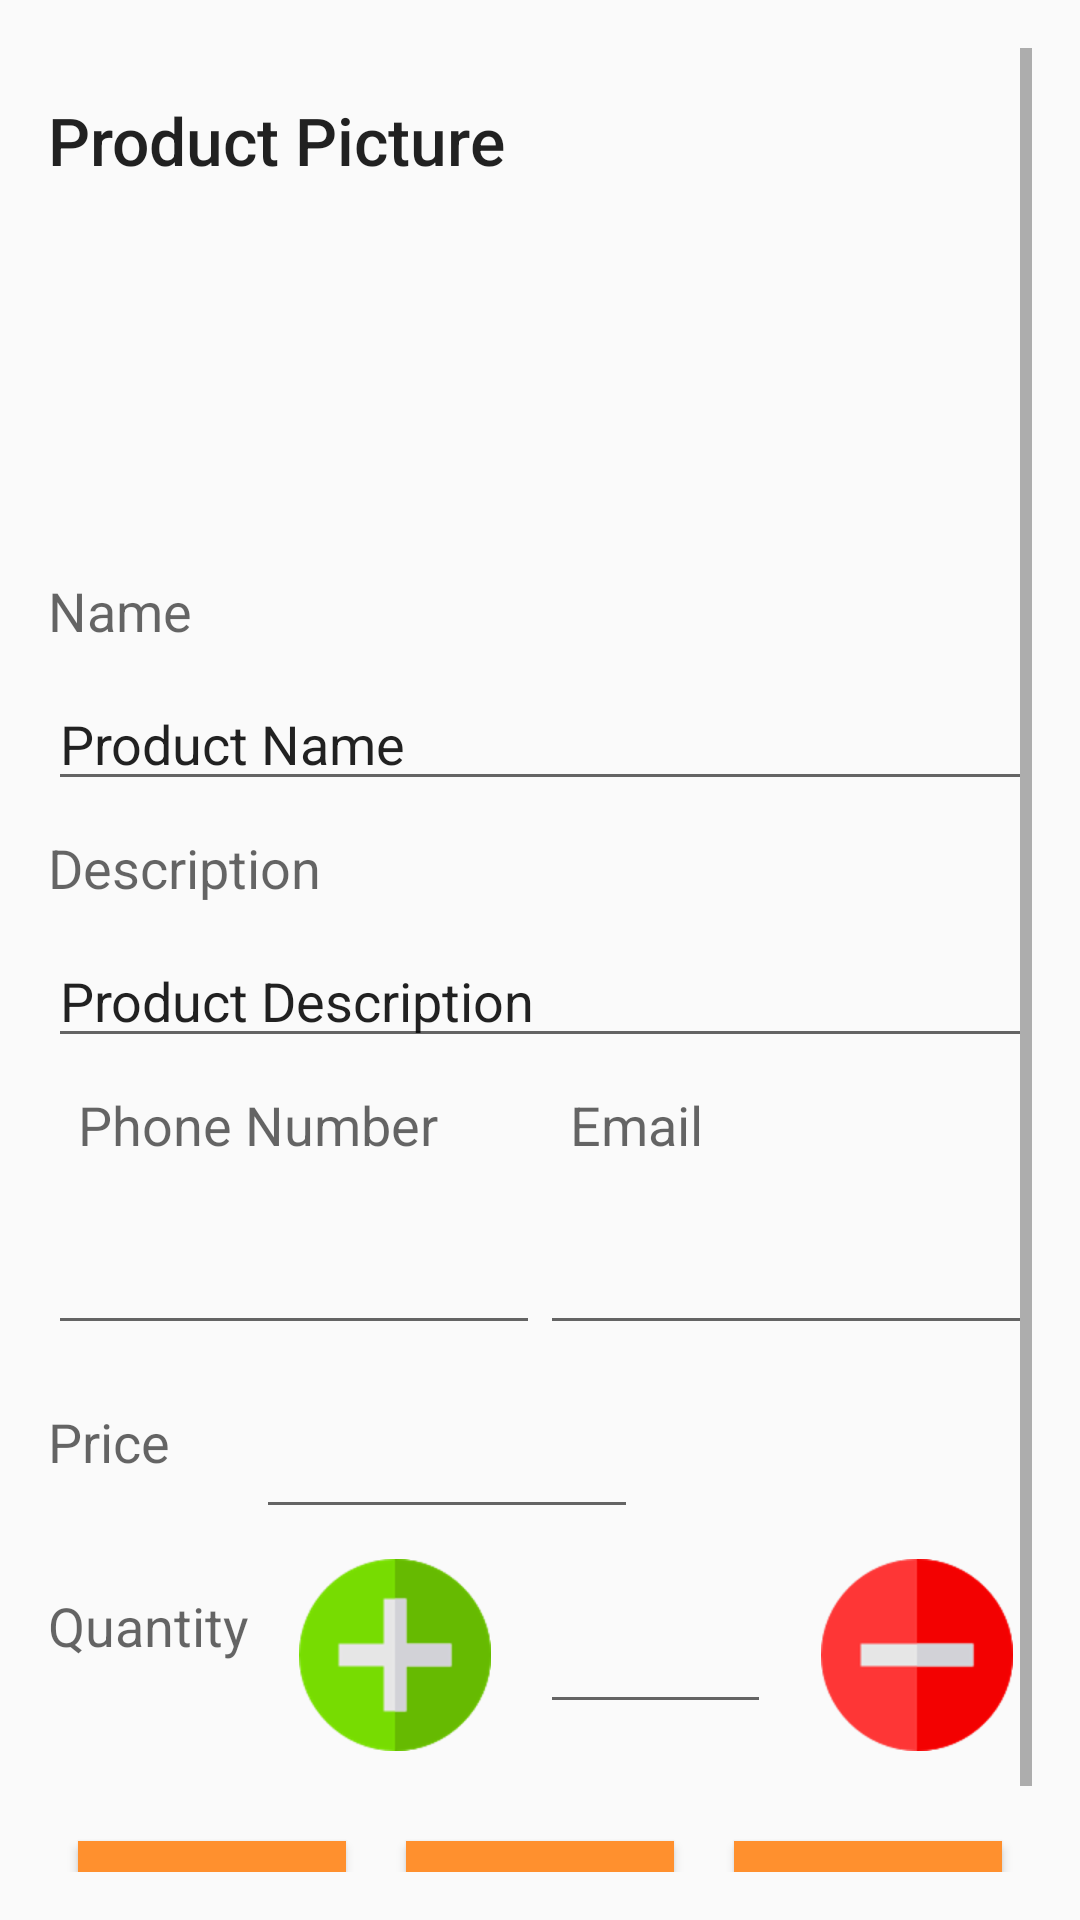

Icons on this 1080*1920 Android screen, each with the point to tap as point (x, y):
minus: point (917, 1655)
plus: point (395, 1655)
